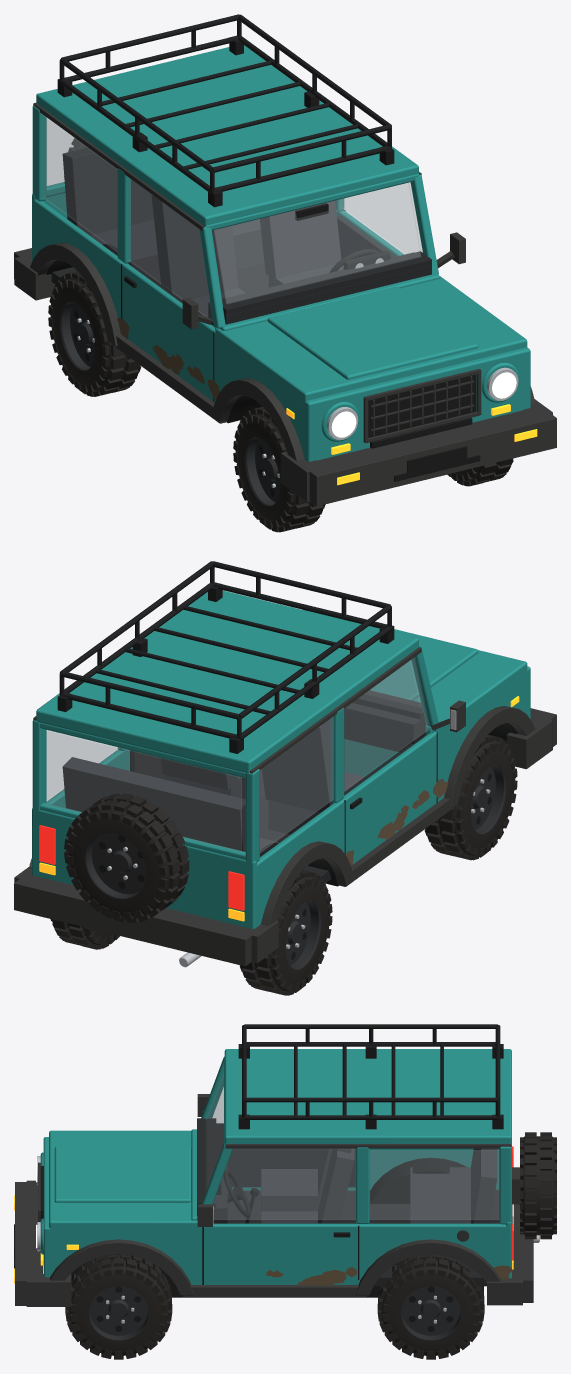
File: Jeep.glb
The picture shows the model from 3 angles, top to bottom: view 1: azimuth 30°, elevation 25°; view 2: azimuth 150°, elevation 25°; view 3: azimuth 270°, elevation 25°; orthographic projection. The views are drawn at different scales.
Visible parts, largest first — view 1: JEEP_Body, JEEP_Trim, JEEP_Glass, JEEP_Interior, JEEP_Wheel_RR, JEEP_Wheel_FR, JEEP_Lights, JEEP_Wheel_FL, JEEP_Mud; view 2: JEEP_Body, JEEP_Trim, JEEP_Glass, JEEP_Interior, JEEP_SpareWheel, JEEP_Wheel_FR, JEEP_Wheel_RR, JEEP_Lights, JEEP_Wheel_RL, JEEP_Mud; view 3: JEEP_Body, JEEP_Trim, JEEP_Glass, JEEP_Interior, JEEP_Wheel_FL, JEEP_Wheel_RL, JEEP_SpareWheel, JEEP_Mud, JEEP_Lights, JEEP_Chassis.
Part boxes in pixels (left/top/right/bottom): JEEP_Body: left=32, top=45, right=530, bottom=461; JEEP_Trim: left=14, top=14, right=556, bottom=506; JEEP_Glass: left=43, top=116, right=422, bottom=319; JEEP_Interior: left=51, top=147, right=431, bottom=325; JEEP_Wheel_RR: left=48, top=271, right=141, bottom=396; JEEP_Wheel_FR: left=233, top=406, right=325, bottom=532; JEEP_Lights: left=286, top=367, right=537, bottom=485; JEEP_Wheel_FL: left=447, top=458, right=513, bottom=486; JEEP_Mud: left=117, top=318, right=220, bottom=399; JEEP_Body: left=32, top=590, right=530, bottom=928; JEEP_Trim: left=14, top=561, right=556, bottom=966; JEEP_Glass: left=46, top=657, right=429, bottom=852; JEEP_Interior: left=62, top=690, right=426, bottom=883; JEEP_SpareWheel: left=64, top=793, right=189, bottom=922; JEEP_Wheel_FR: left=424, top=734, right=517, bottom=860; JEEP_Wheel_RR: left=239, top=870, right=332, bottom=995; JEEP_Lights: left=39, top=696, right=519, bottom=921; JEEP_Wheel_RL: left=50, top=919, right=119, bottom=949; JEEP_Mud: left=29, top=779, right=448, bottom=872; JEEP_Body: left=40, top=1049, right=511, bottom=1284; JEEP_Trim: left=14, top=1024, right=533, bottom=1306; JEEP_Glass: left=206, top=1073, right=498, bottom=1219; JEEP_Interior: left=197, top=1118, right=499, bottom=1286; JEEP_Wheel_FL: left=65, top=1254, right=172, bottom=1359; JEEP_Wheel_RL: left=377, top=1255, right=484, bottom=1359; JEEP_SpareWheel: left=520, top=1132, right=556, bottom=1239; JEEP_Mud: left=266, top=1265, right=512, bottom=1285; JEEP_Lights: left=14, top=1146, right=513, bottom=1283; JEEP_Chassis: left=167, top=1235, right=539, bottom=1297.
Size of the model in its own units: 1.92 by 2.01 by 3.9.
